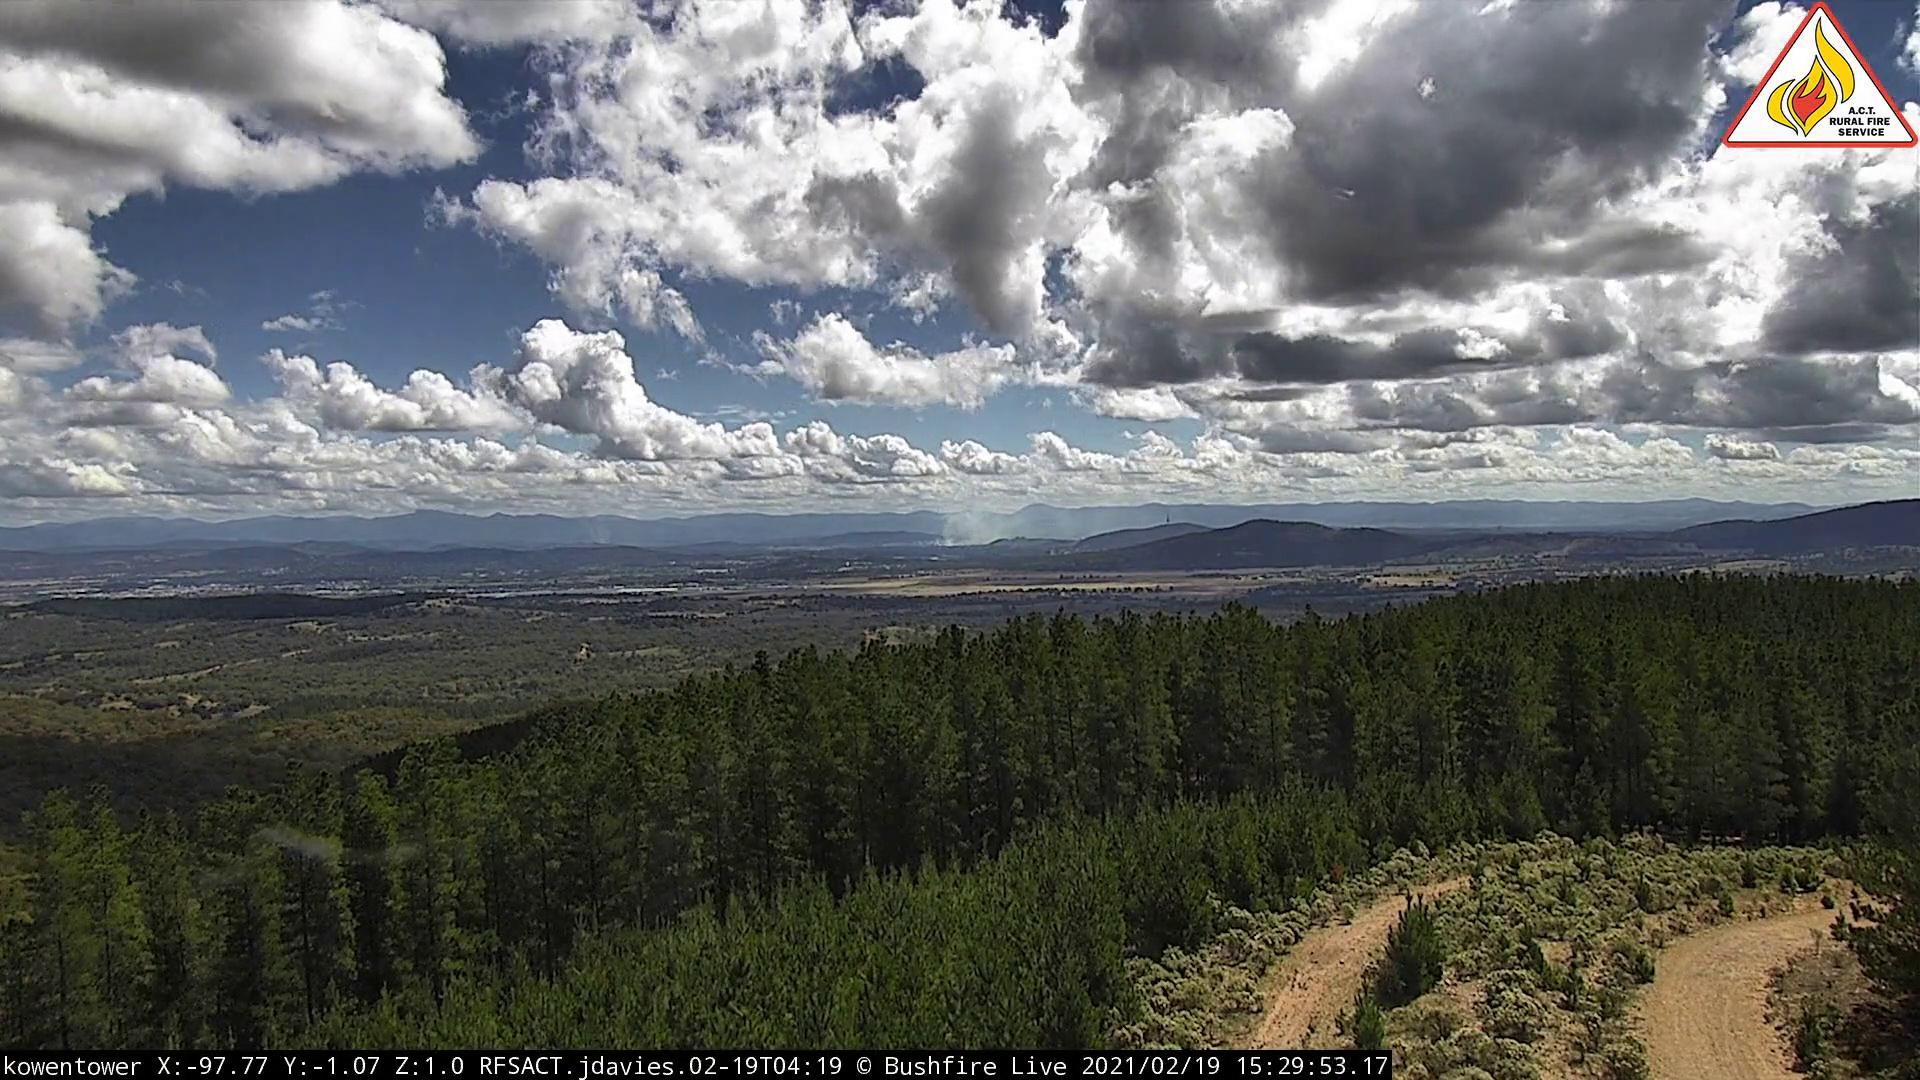Smoke: (936, 504, 1040, 554), (589, 526, 622, 553)
